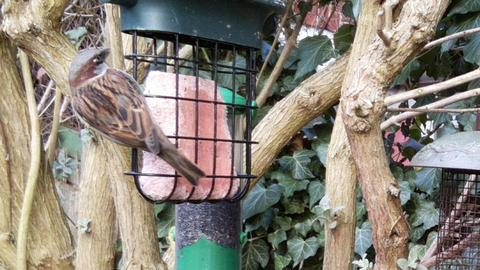sparrow: (68, 46, 208, 187)
